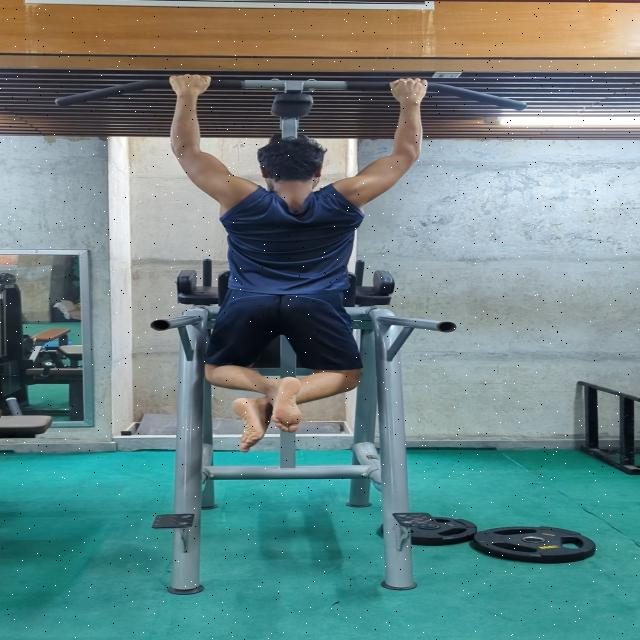Normal_PullUps: (158, 70, 434, 457)
